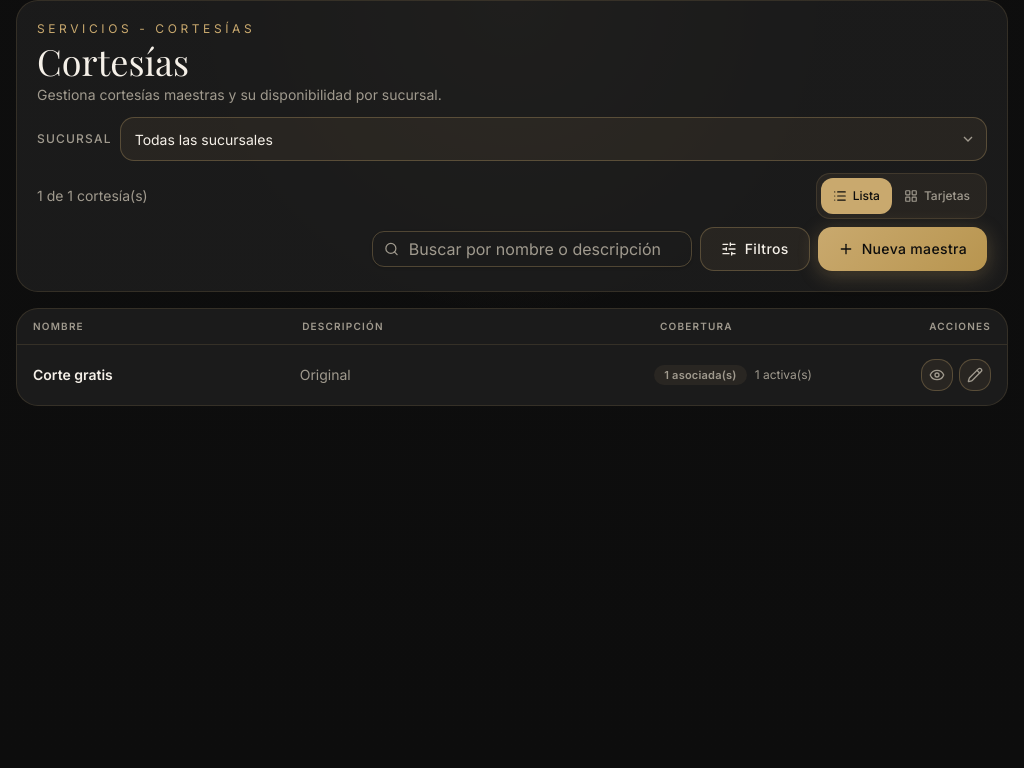
Test: QA10 vigencia del guardado de cortesías › éxito vigente conserva confirmación, aviso, sincronización y refresco único
Check: the text "Corte gratis" is shown, box x1=33 y1=366 x2=113 y2=383
Click the button titled "Editar cortesía maestra" at (975,375), box x1=959 y1=359 x2=991 y2=391
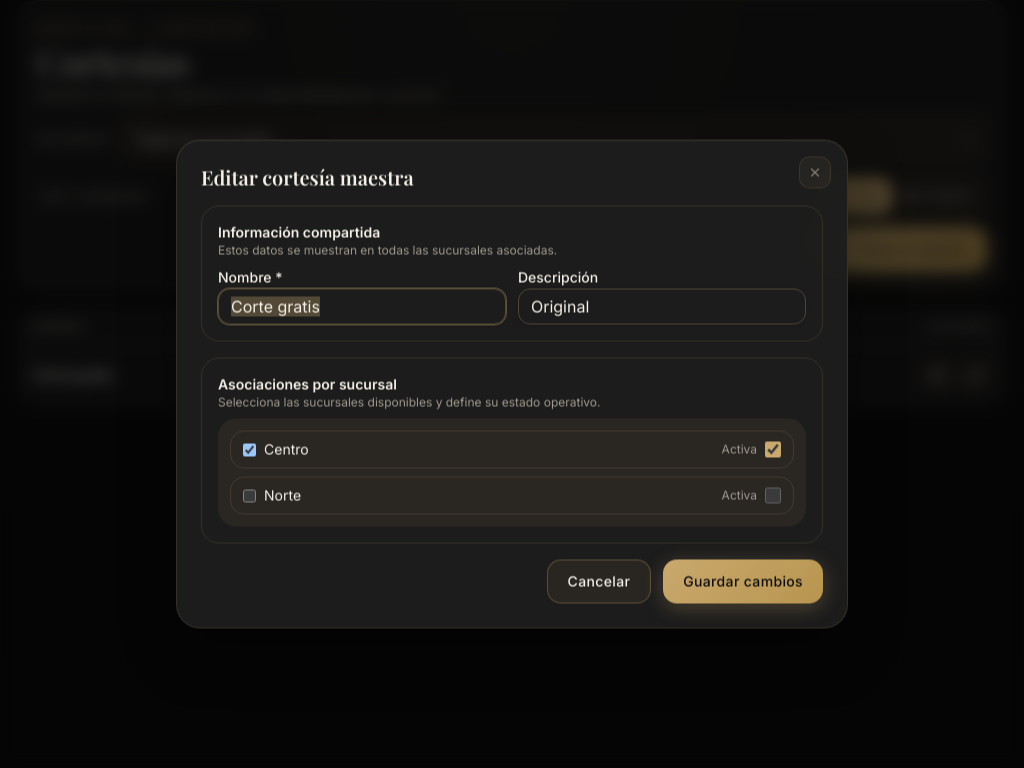
Replace the text in the field labelled "Descripción" with "Cambio QA10" at (662,306), box x1=518 y1=288 x2=806 y2=324
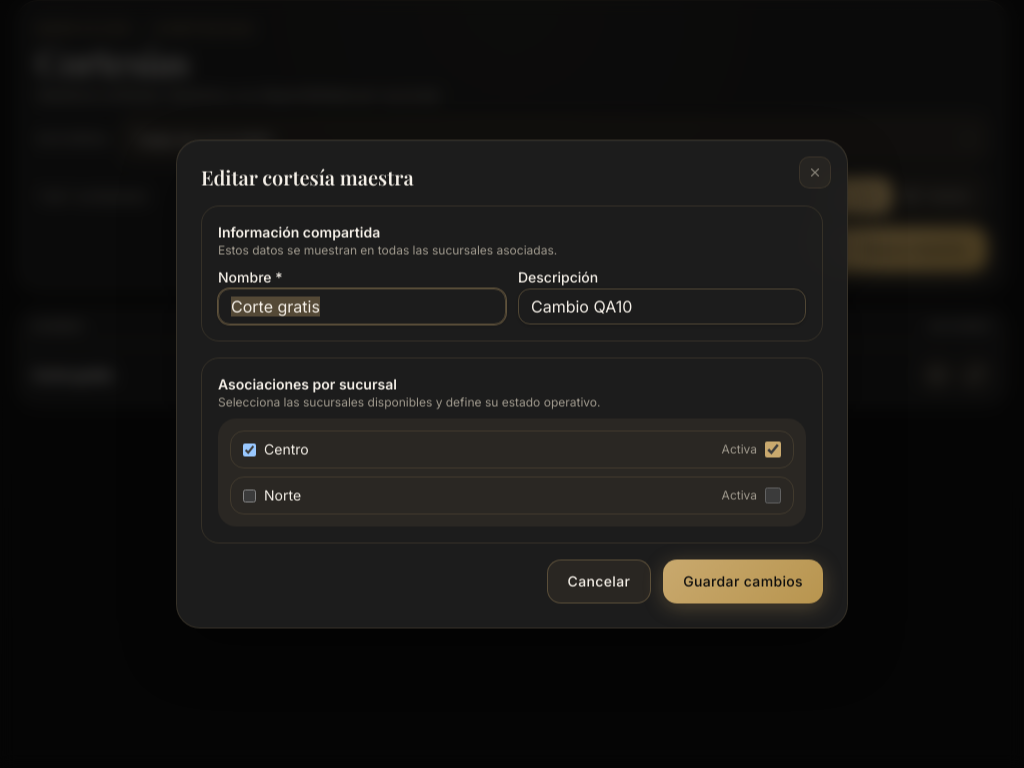
Click the button "Guardar cambios" at (743,582), box x1=663 y1=560 x2=823 y2=604
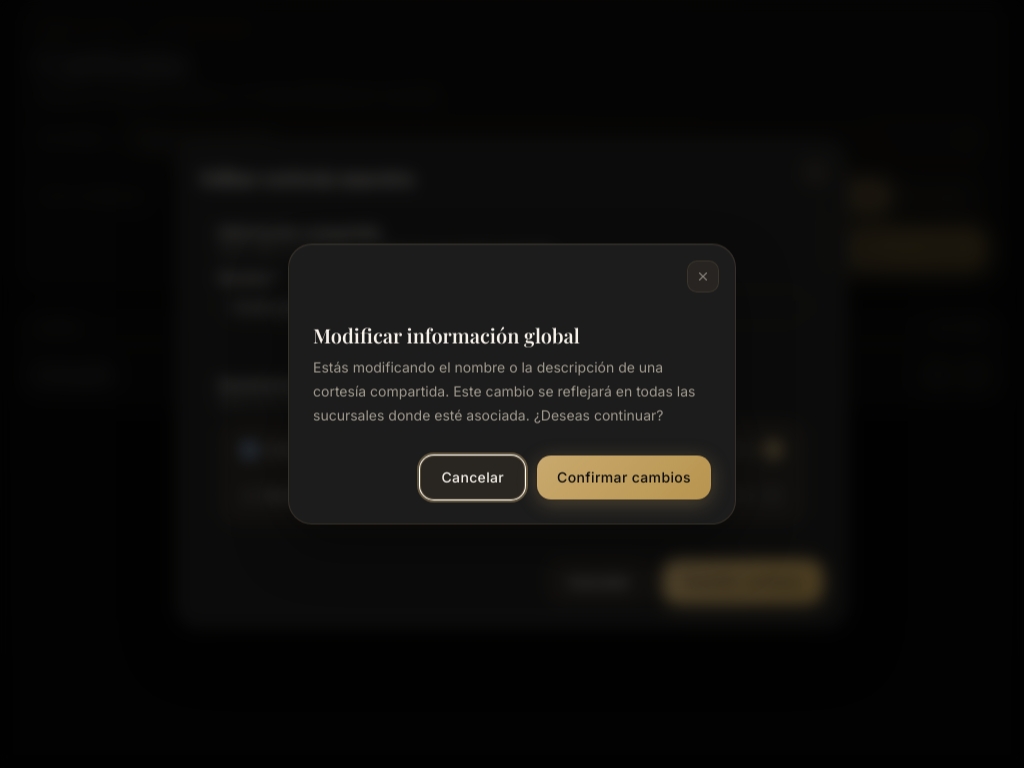
Click the button "Confirmar cambios" at (624,478), box x1=537 y1=456 x2=711 y2=500
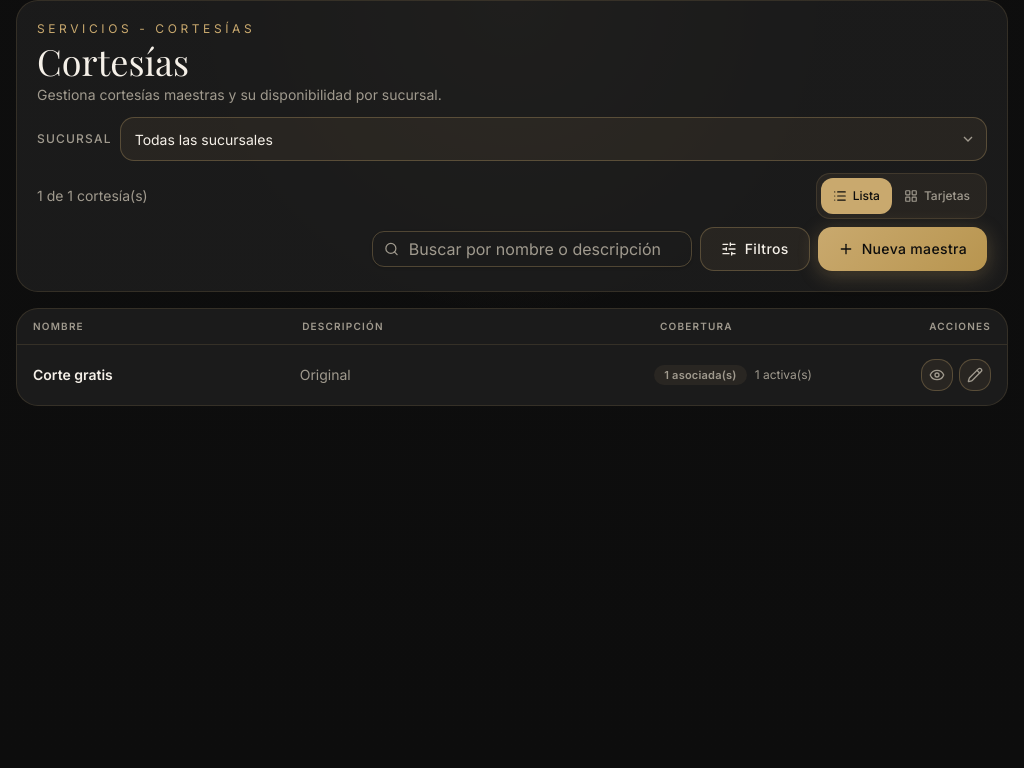
Check: the dialog is gone
